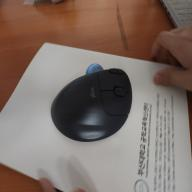mouse: (50, 62, 134, 144)
